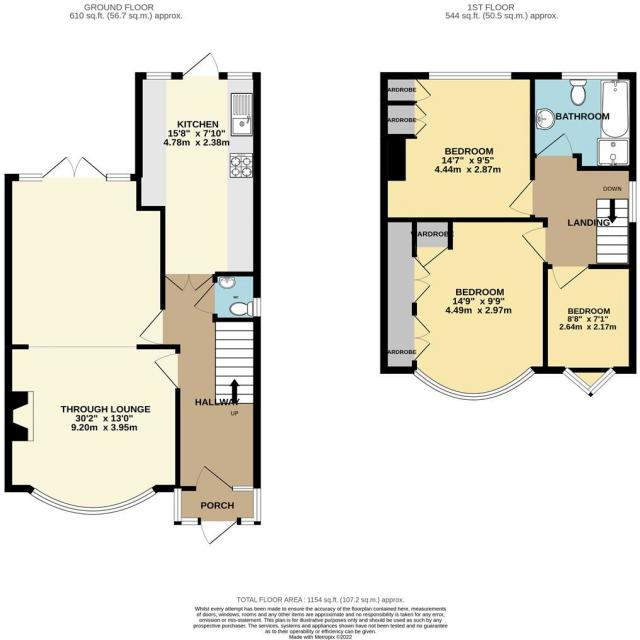DOOR: (181, 53, 223, 78), (140, 306, 167, 344), (164, 272, 215, 292), (198, 519, 240, 543), (193, 466, 234, 490), (154, 353, 179, 390), (509, 179, 534, 215), (536, 133, 573, 157), (192, 282, 217, 313), (524, 227, 545, 262)
DOUBLE DOOR: (40, 155, 107, 182)
ROOM: (4, 156, 181, 517), (379, 216, 551, 405), (135, 53, 263, 293), (379, 70, 536, 226), (543, 263, 637, 401)
WINDOW: (412, 365, 537, 400), (30, 486, 159, 515), (562, 366, 618, 398), (171, 486, 200, 526), (428, 71, 514, 80), (561, 71, 620, 80), (628, 180, 636, 226), (145, 71, 172, 81), (17, 172, 46, 181), (226, 71, 254, 79), (105, 174, 132, 182)
